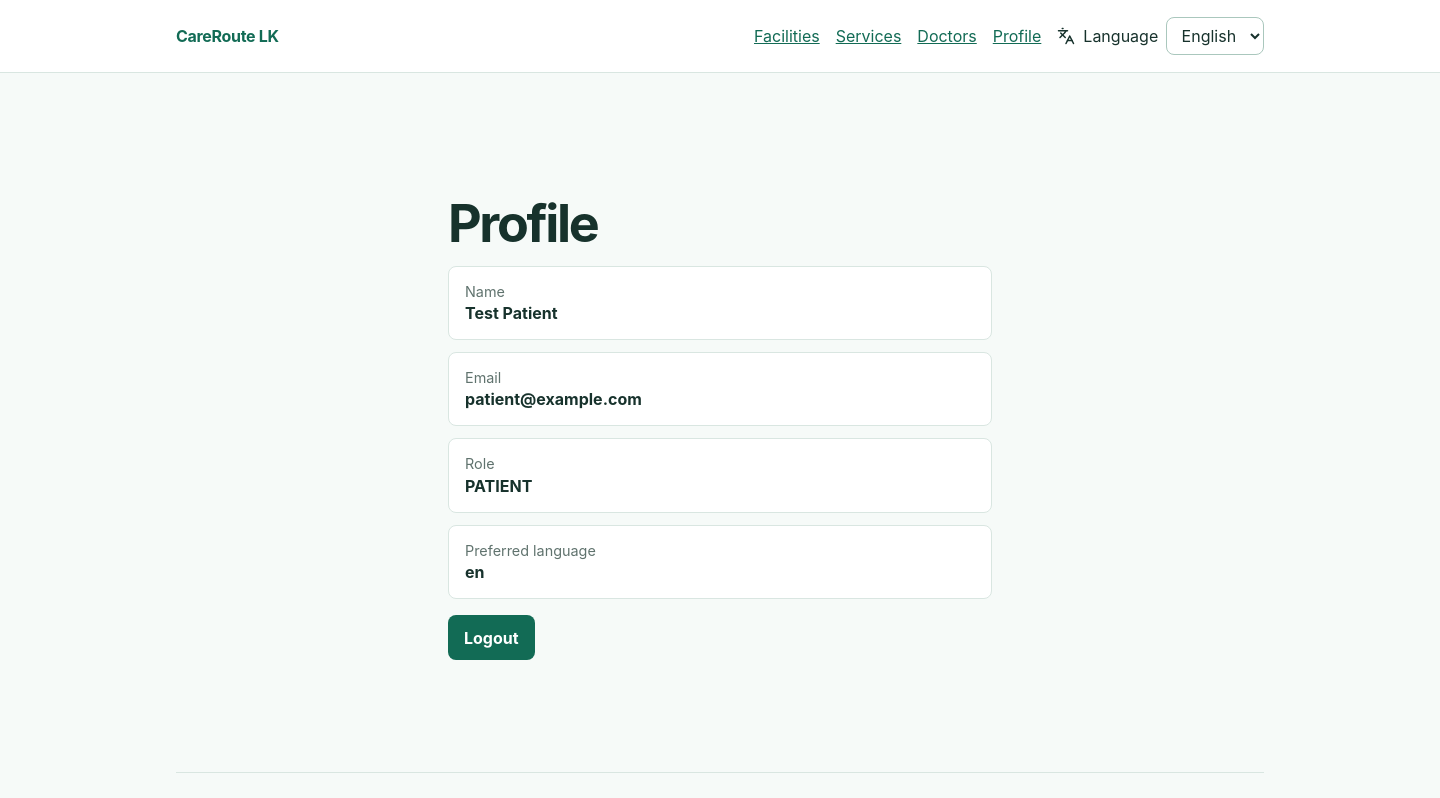
Test case: authenticated user can view safe profile fields and logout
Expected: the heading "Profile" is shown, top-left (448, 192), bottom-right (597, 255)
Expected: the text "patient@example.com" is shown, top-left (465, 389), bottom-right (642, 409)
Step 1. Click the button "Logout" → (491, 638), box top-left (448, 615), bottom-right (535, 660)
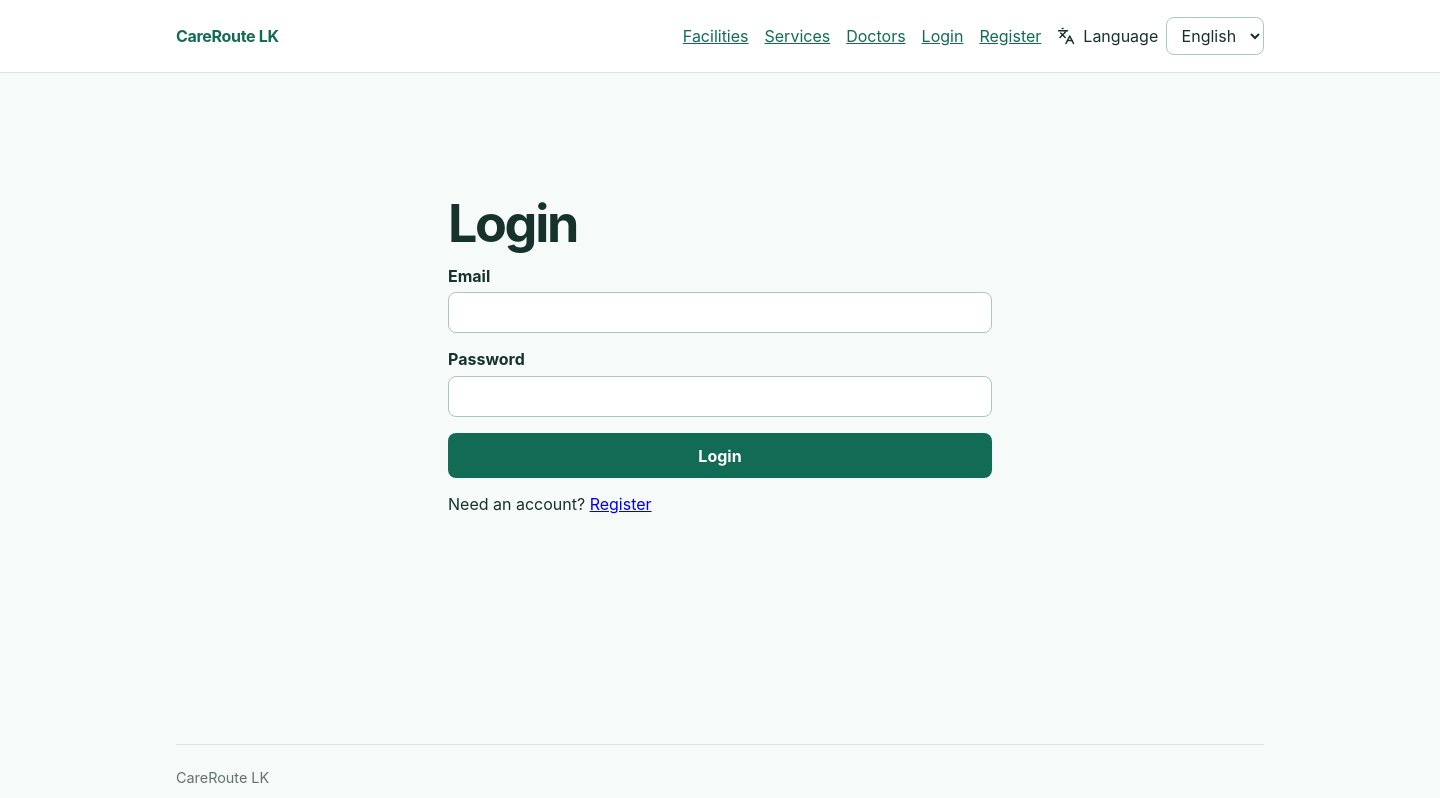
Now the heading "Login" is shown, box top-left (448, 192), bottom-right (577, 255)
